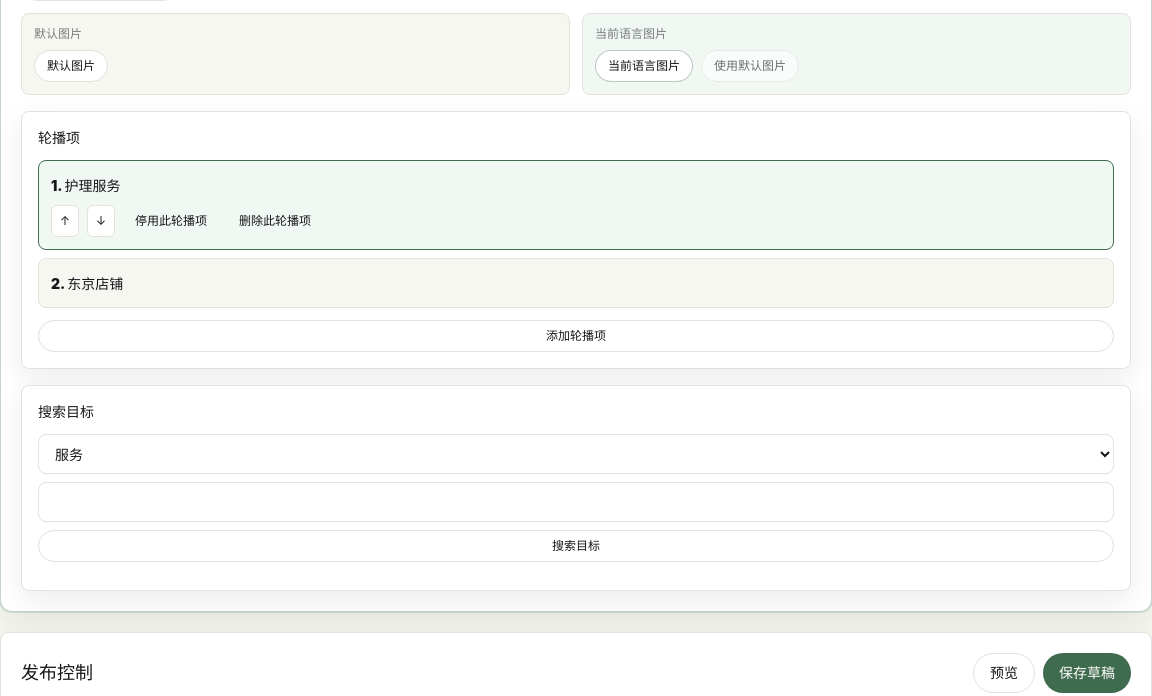
LocalizedCarouselEditor › adds, deletes, and enables slides, then reconciles lifecycle mutations from the authoritative scene
(page scrolled)
Click the button "添加轮播项".
click(576, 336)  # box x1=38 y1=320 x2=1114 y2=352
(page scrolled)
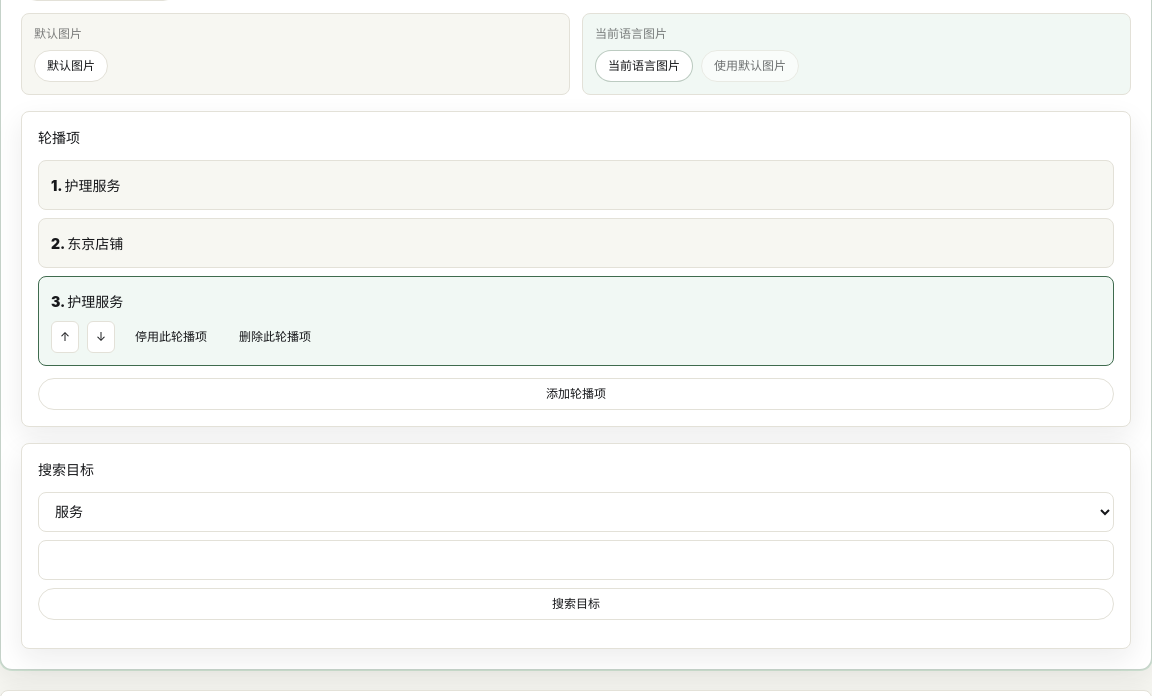
Check: the number of elements with test id "carousel-slide-card" is 3, box x1=38 y1=160 x2=1114 y2=210; x1=38 y1=218 x2=1114 y2=268; x1=38 y1=276 x2=1114 y2=366
Click the button "停用此轮播项".
click(171, 336)  # box x1=123 y1=320 x2=219 y2=352
(page scrolled)
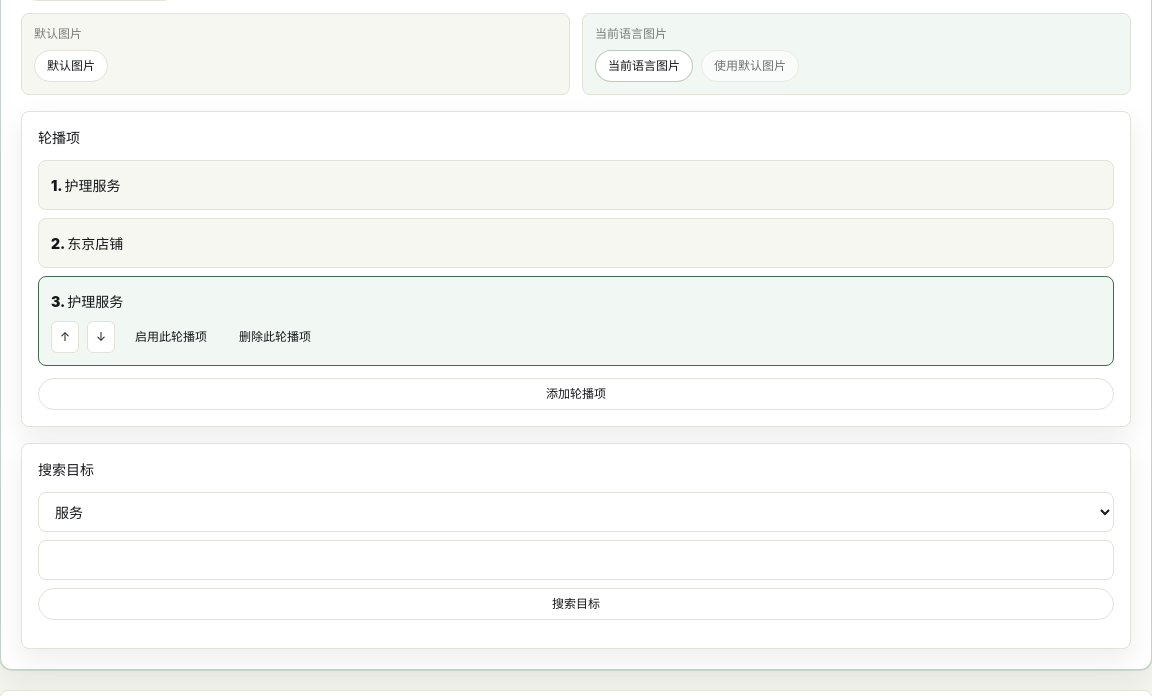
Check: the checkbox named "slideEnabled" is not checked, box x1=51 y1=321 x2=323 y2=353
Click the button "删除此轮播项".
click(275, 337)  # box x1=227 y1=321 x2=323 y2=353
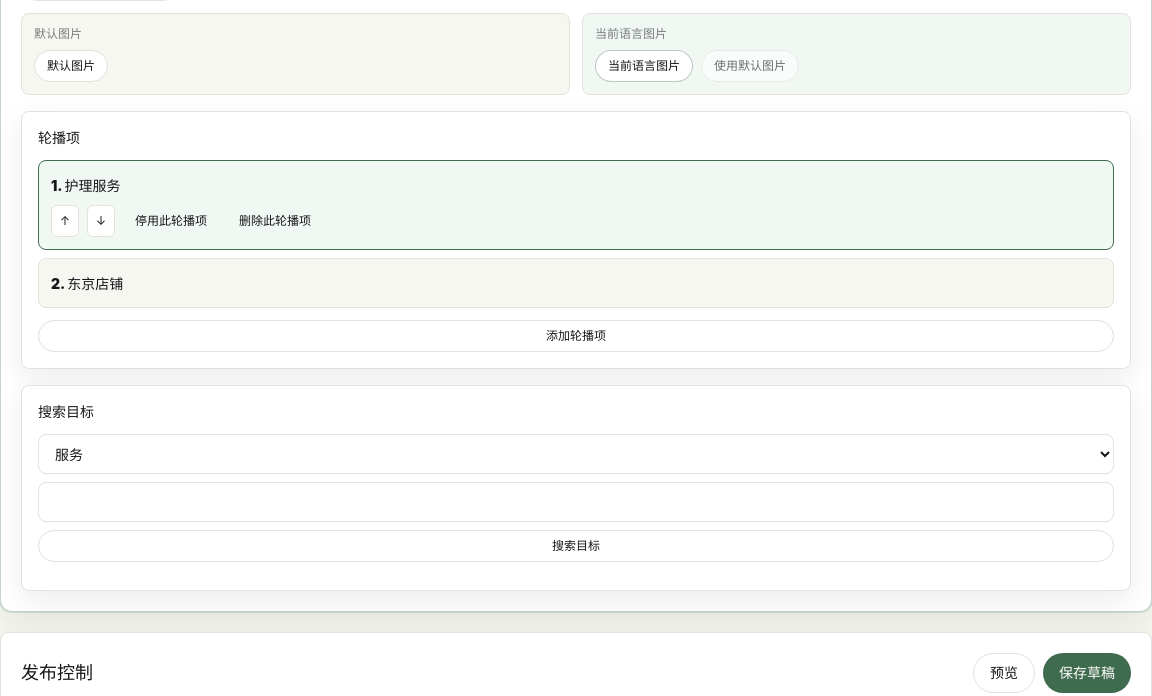
Check: the number of elements with test id "carousel-slide-card" is 2, box x1=38 y1=160 x2=1114 y2=250; x1=38 y1=258 x2=1114 y2=308
